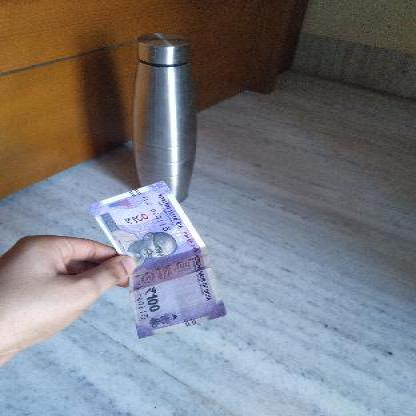New100Front: (84, 176, 226, 333)
